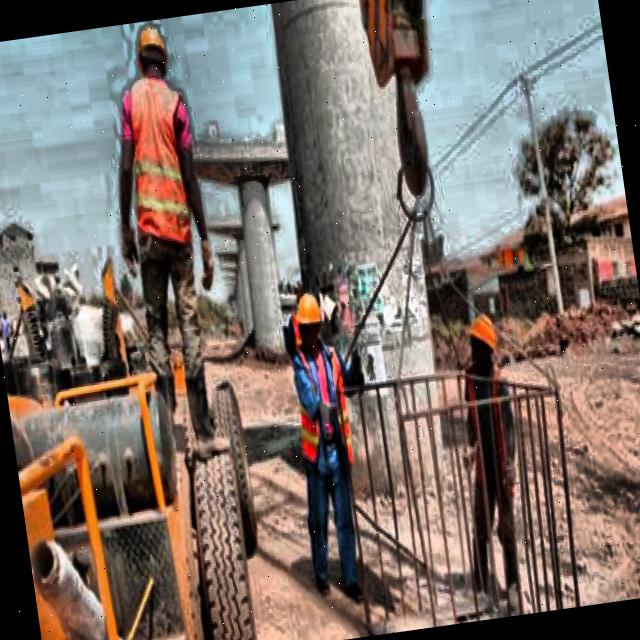helmet: (290, 284, 332, 358), (130, 24, 172, 90), (464, 306, 502, 373)
